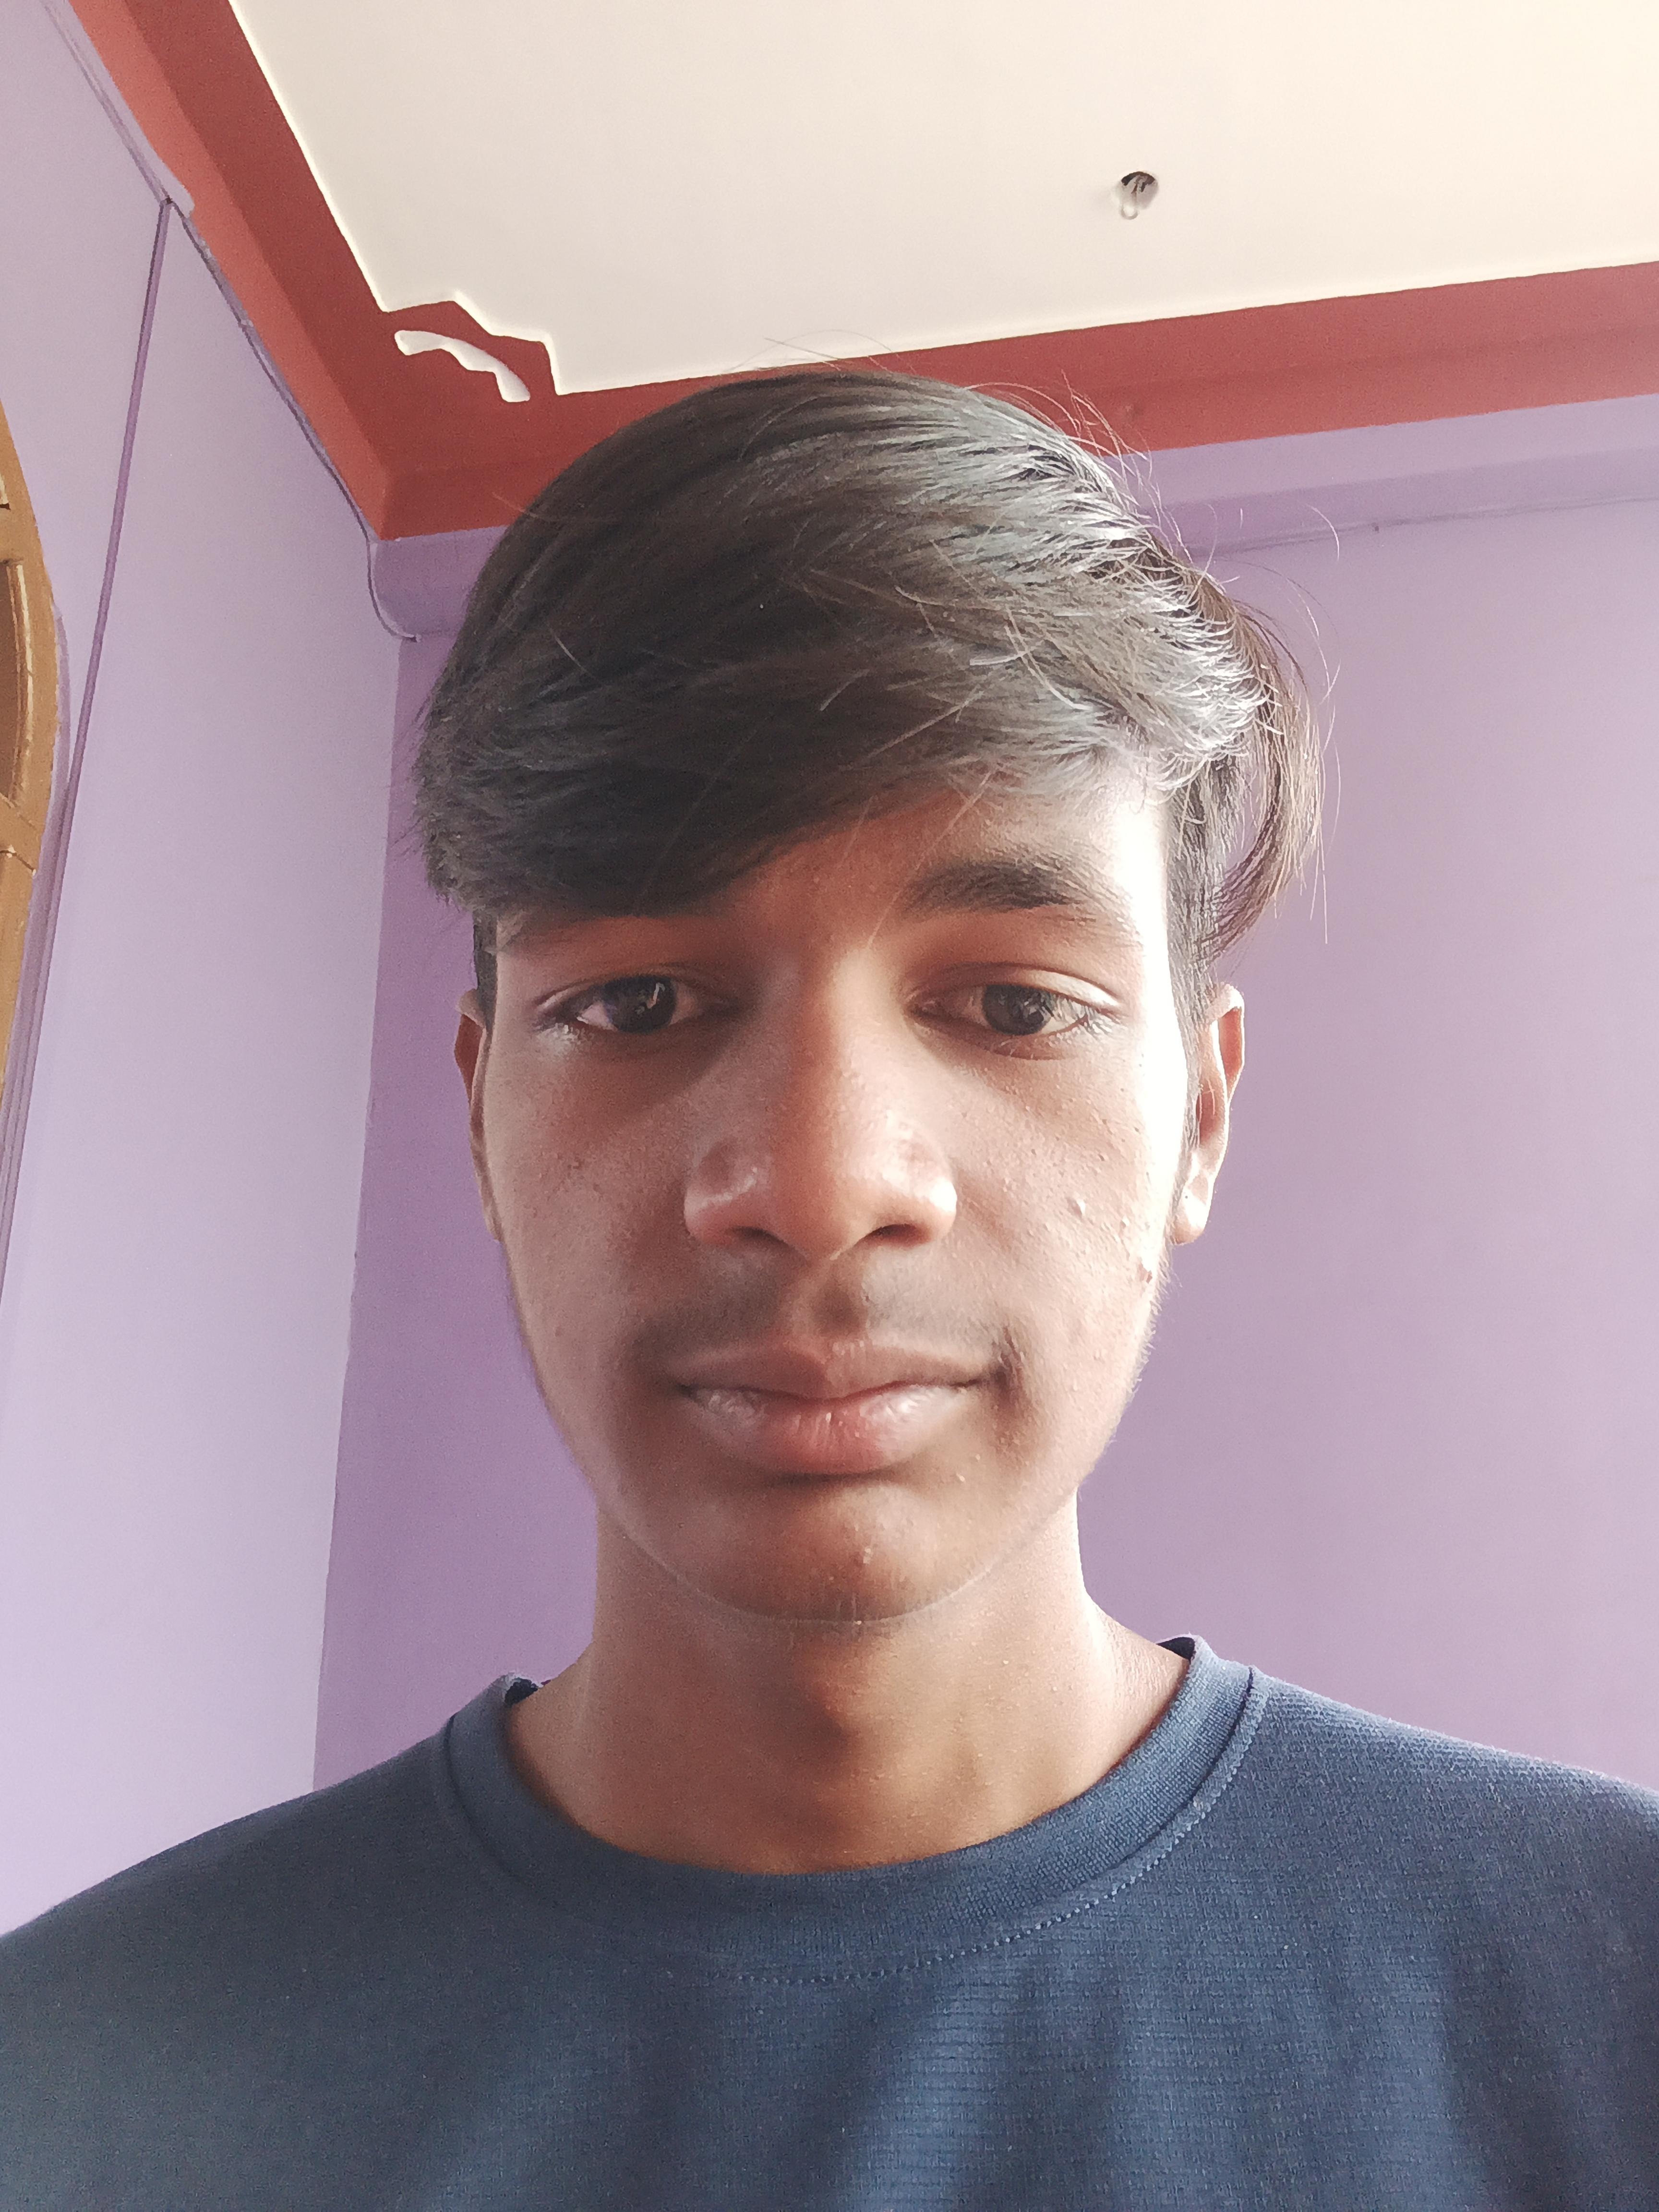Acne: (1056, 1132, 1127, 1183), (540, 1148, 598, 1193), (800, 862, 843, 904), (838, 1052, 882, 1094), (941, 1449, 983, 1489), (1053, 1188, 1098, 1224), (1124, 1251, 1161, 1285), (843, 1548, 878, 1578)
